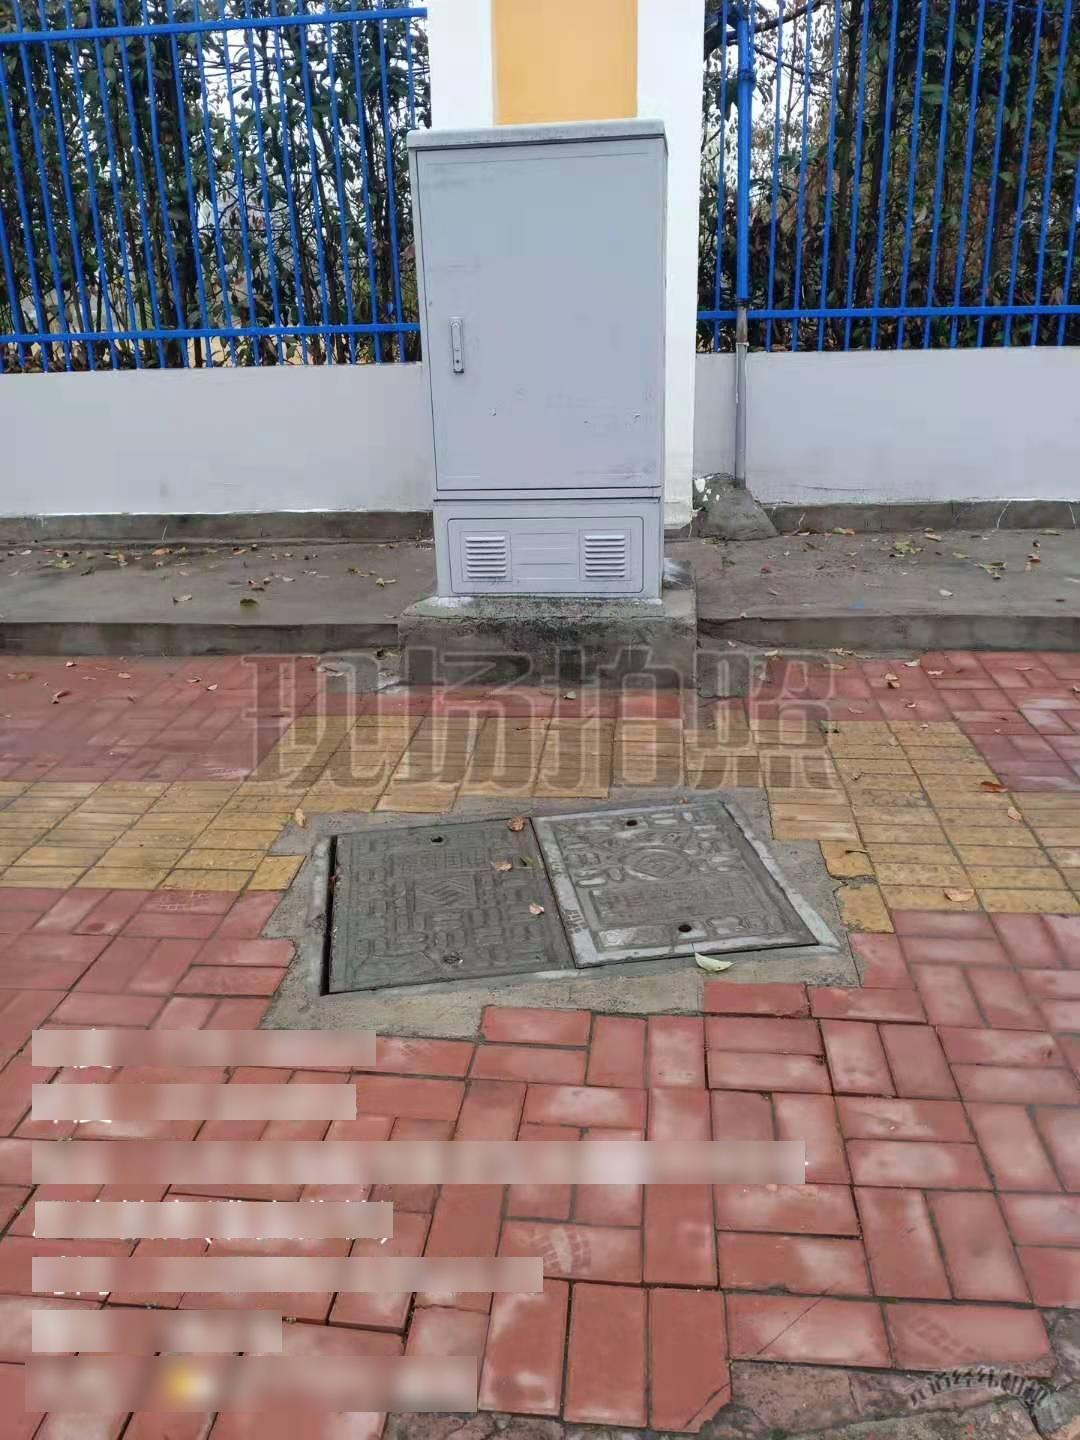wellcover: (261, 776, 833, 1023)
